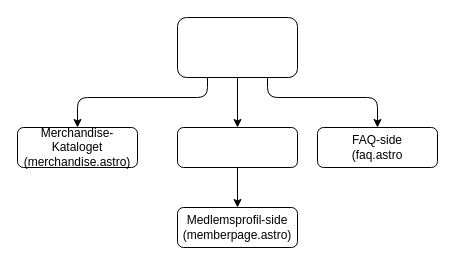
This 455x265 diagram has some shape labels left out. The centre of each missing label's shape, as x and y in pixels:
"Forside (index.astro)" goes at [237,47].
"Login/sign-up side (login.astro)" goes at [237,147].
